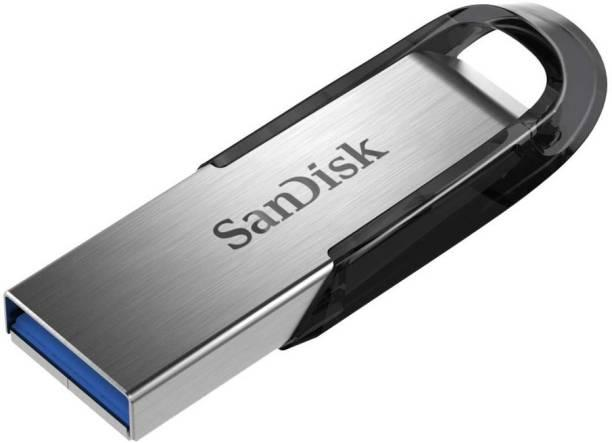pendrive: (3, 18, 601, 426)
